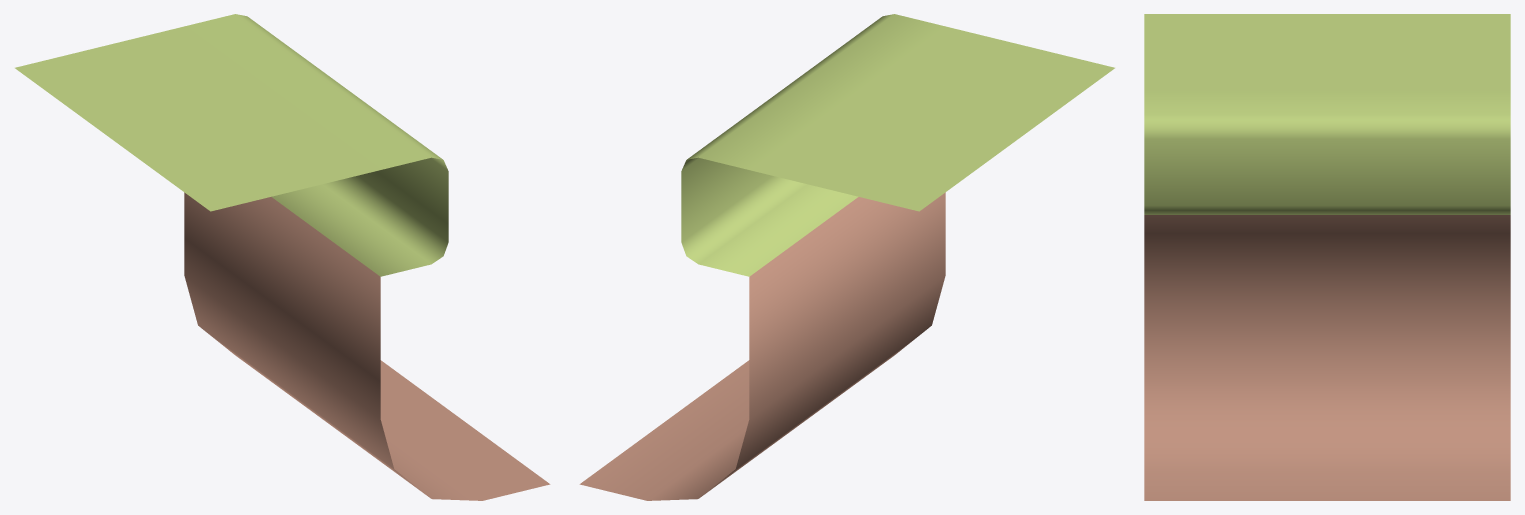
Rendered from LandSide.glb.
3 renders of one model, left to right at view 1: azimuth 30°, elevation 25°; view 2: azimuth 150°, elevation 25°; view 3: azimuth 270°, elevation 25°, orthographic. The views are drawn at different scales.
Parts seen in each view (by area): view 1: Land.Side; view 2: Land.Side; view 3: Land.Side.
Boxes of the visible parts, x1,y1,x2,y2 form: Land.Side: (15, 14, 550, 500); Land.Side: (579, 14, 1114, 500); Land.Side: (1144, 14, 1510, 500).
Bounding box in the file's own units: 2 × 2 × 2.
